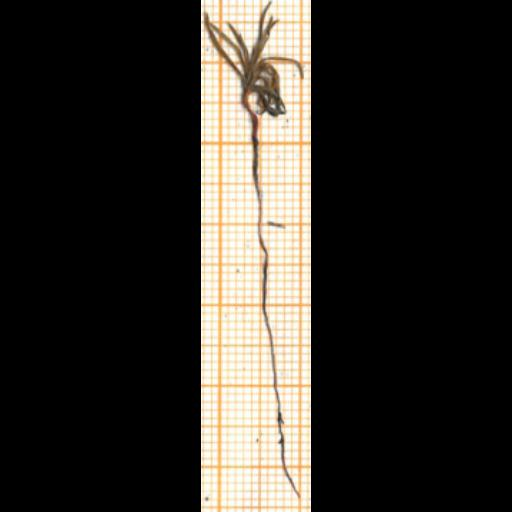flowerPinus: (205, 3, 305, 116)
rootPinus: (259, 219, 301, 499)
stemPinus: (241, 91, 263, 220)
